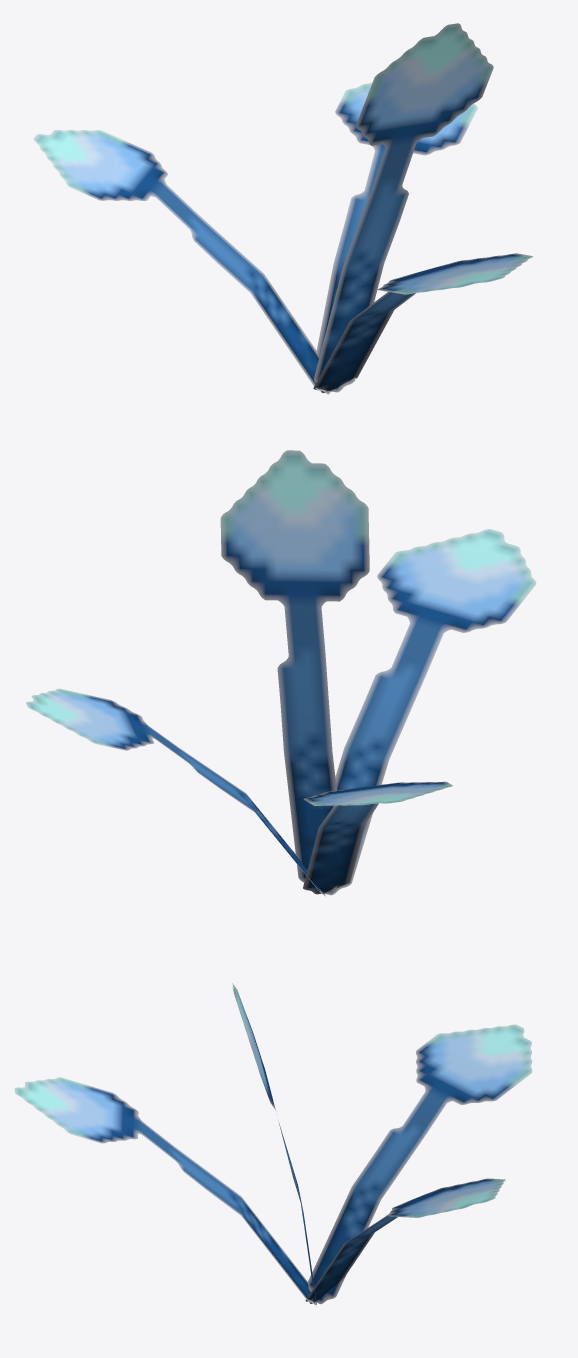
The model's file is mogu.fbx.
The picture shows the model from 3 angles, top to bottom: view 1: azimuth 30°, elevation 25°; view 2: azimuth 150°, elevation 25°; view 3: azimuth 270°, elevation 25°; orthographic projection. The views are drawn at different scales.
Parts seen in each view (by area): view 1: 平面.234; view 2: 平面.234; view 3: 平面.234.
Boxes of the visible parts, x1,y1,x2,y2 form: 平面.234: (33,23,532,394); 平面.234: (26,450,536,896); 平面.234: (14,983,532,1306).
Bounding box in the file's own units: 64.28 × 54.08 × 73.44.
Materials: 1 (1 with a texture image).
